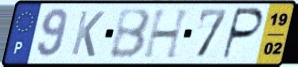7: (196, 7, 230, 60)
9: (35, 7, 70, 61)
B: (108, 8, 153, 61)
H: (141, 7, 193, 60)
K: (69, 9, 107, 59)
P: (219, 6, 265, 62)
